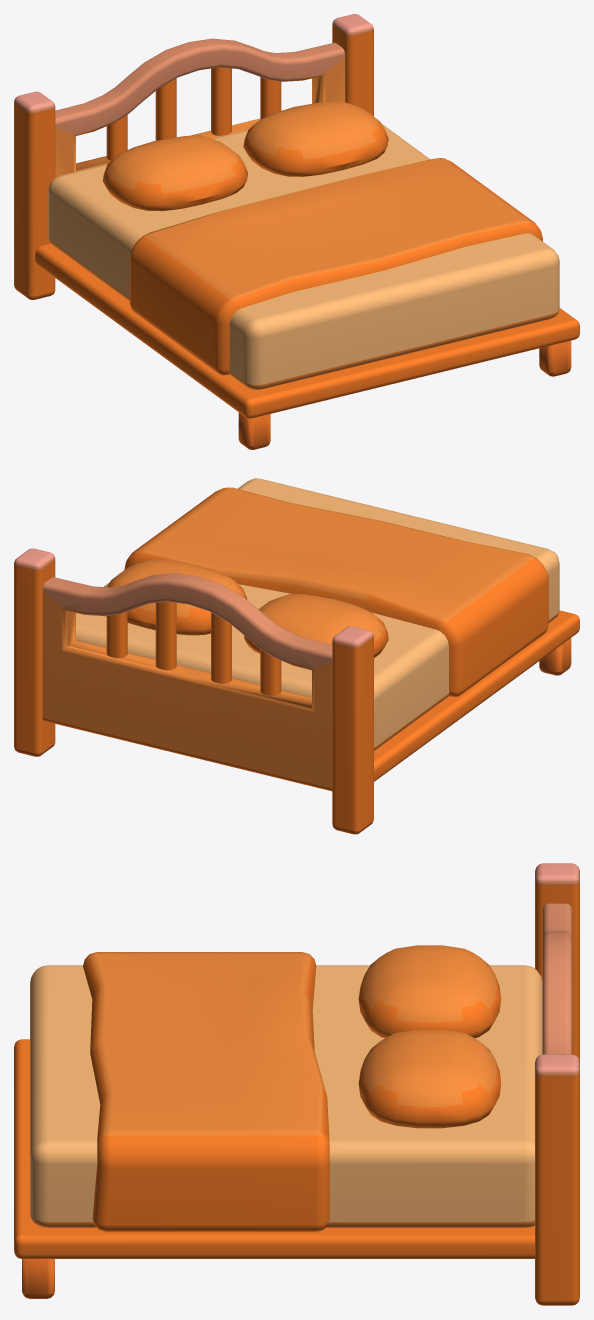
Rendered from cama_natal_casal_laranja_pacote.glb.
3 views of the same model, one above another, from view 1: azimuth 30°, elevation 25°; view 2: azimuth 150°, elevation 25°; view 3: azimuth 270°, elevation 25° (orthographic). The views are drawn at different scales.
Parts seen in each view (by area): view 1: cama_natal_casal_laranja_pacote; view 2: cama_natal_casal_laranja_pacote; view 3: cama_natal_casal_laranja_pacote.
Boxes of the visible parts, x1=… form: cama_natal_casal_laranja_pacote: x1=14, y1=14, x2=579, y2=449; cama_natal_casal_laranja_pacote: x1=14, y1=478, x2=579, y2=834; cama_natal_casal_laranja_pacote: x1=14, y1=863, x2=579, y2=1305.
Bounding box in the file's own units: 1.86 × 1.08 × 2.14.
1 material, 1 textured.
